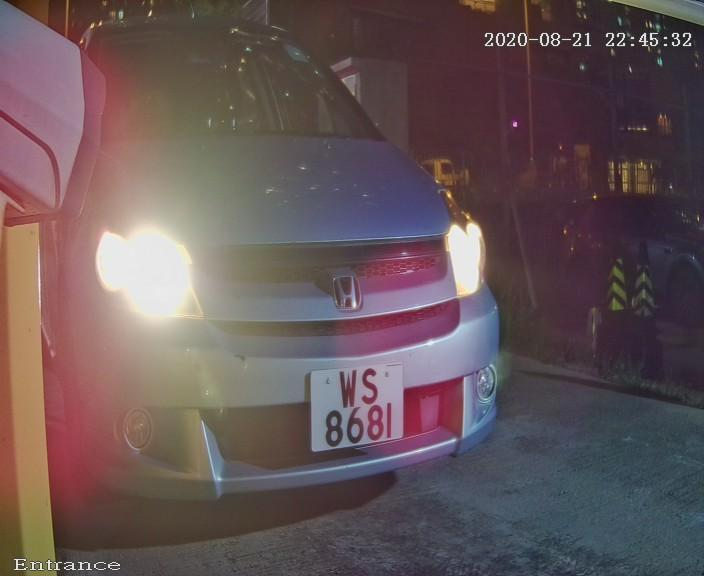License Plate: (293, 350, 419, 466)
